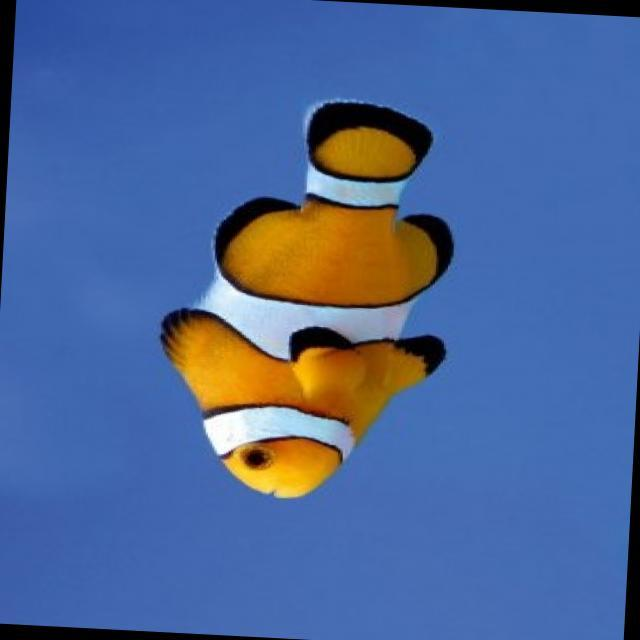ClownFish: (163, 96, 444, 496)
